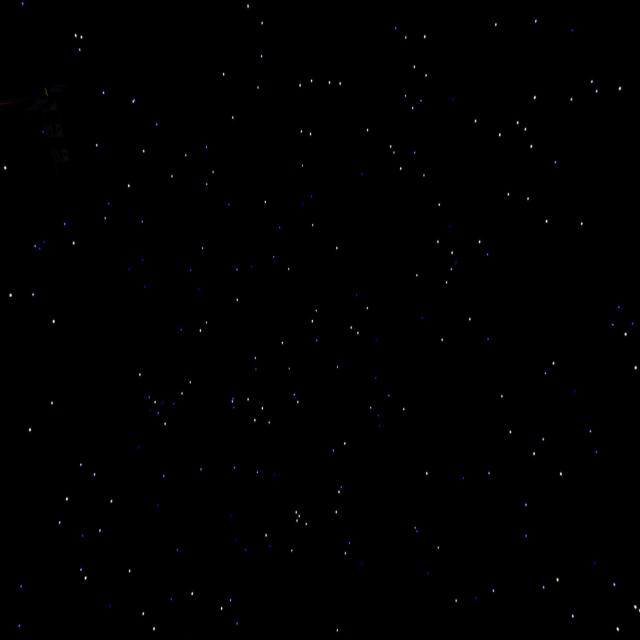medium_debris: (1, 95, 101, 170)
